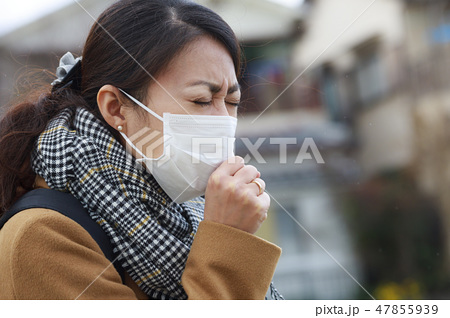mask: (156, 120, 248, 211)
